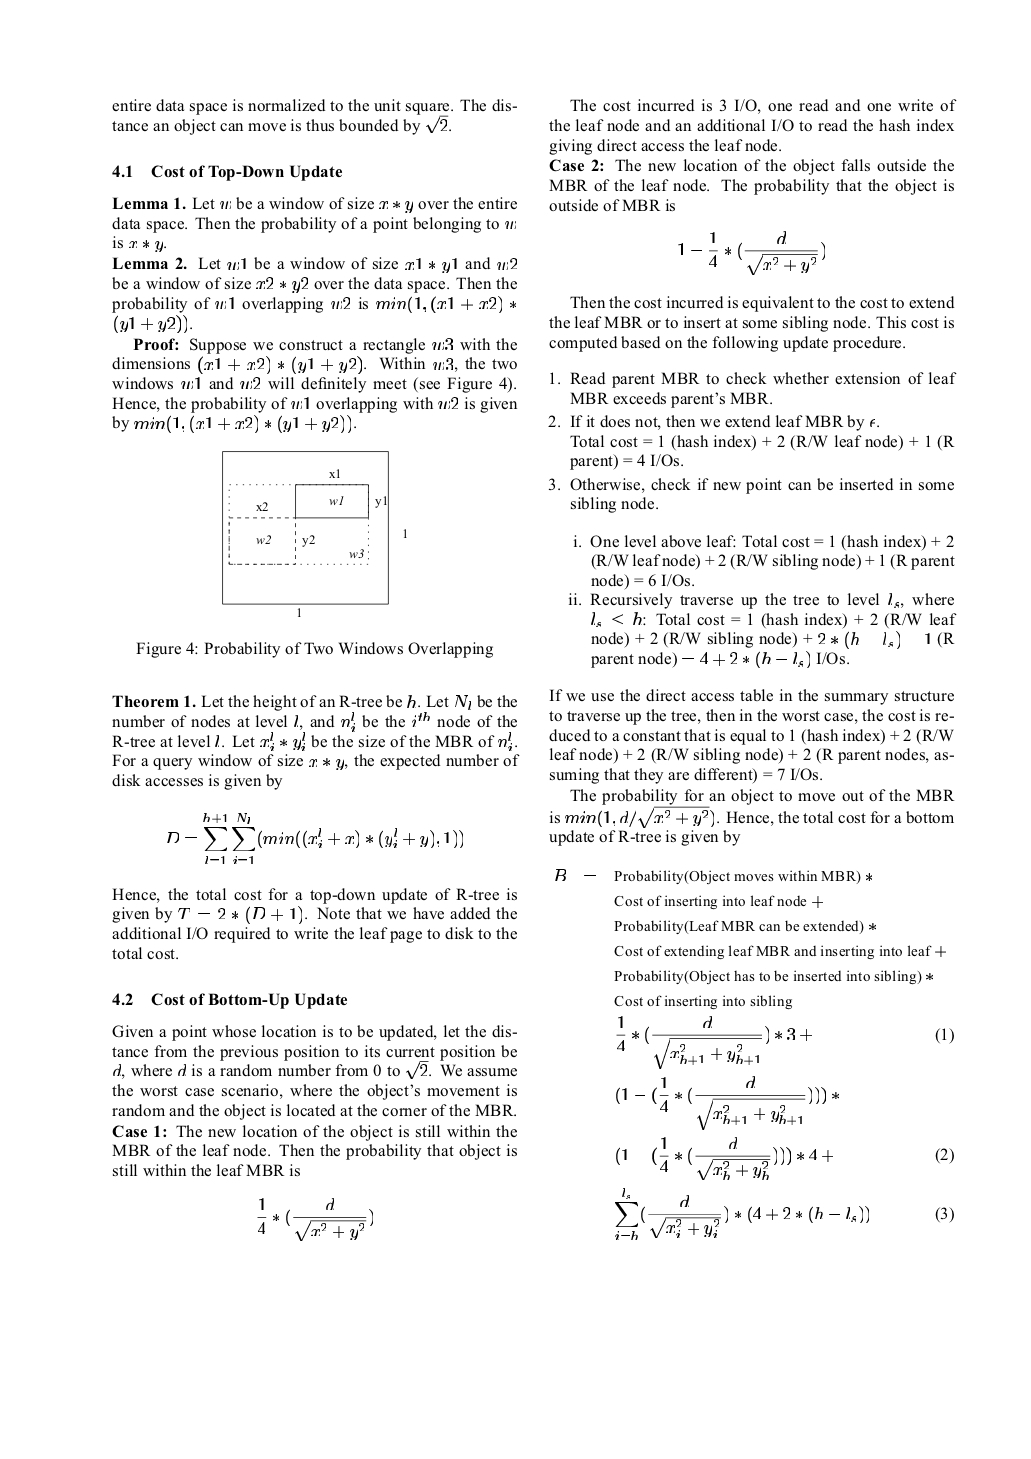figure: (222, 451, 406, 616)
formula: (615, 1187, 953, 1240), (616, 1015, 953, 1069), (616, 1136, 953, 1180), (167, 813, 462, 863), (616, 1075, 838, 1130), (678, 230, 823, 276), (257, 1197, 372, 1241), (114, 315, 191, 332)
